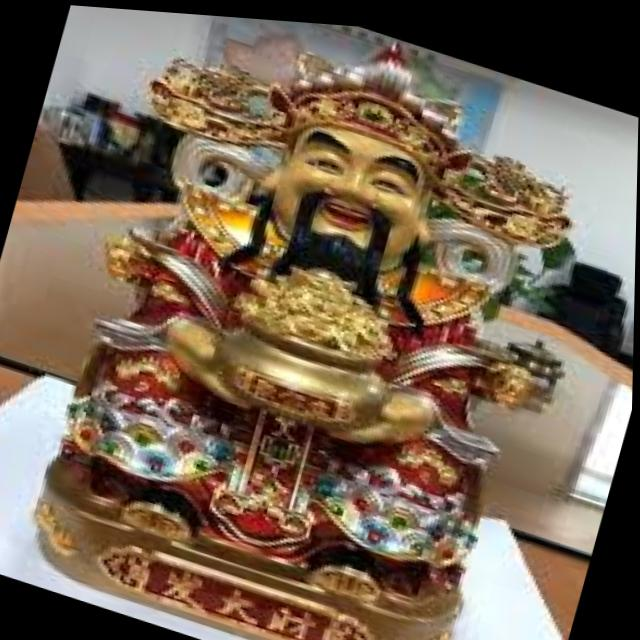Cai shen: (44, 3, 585, 593)
